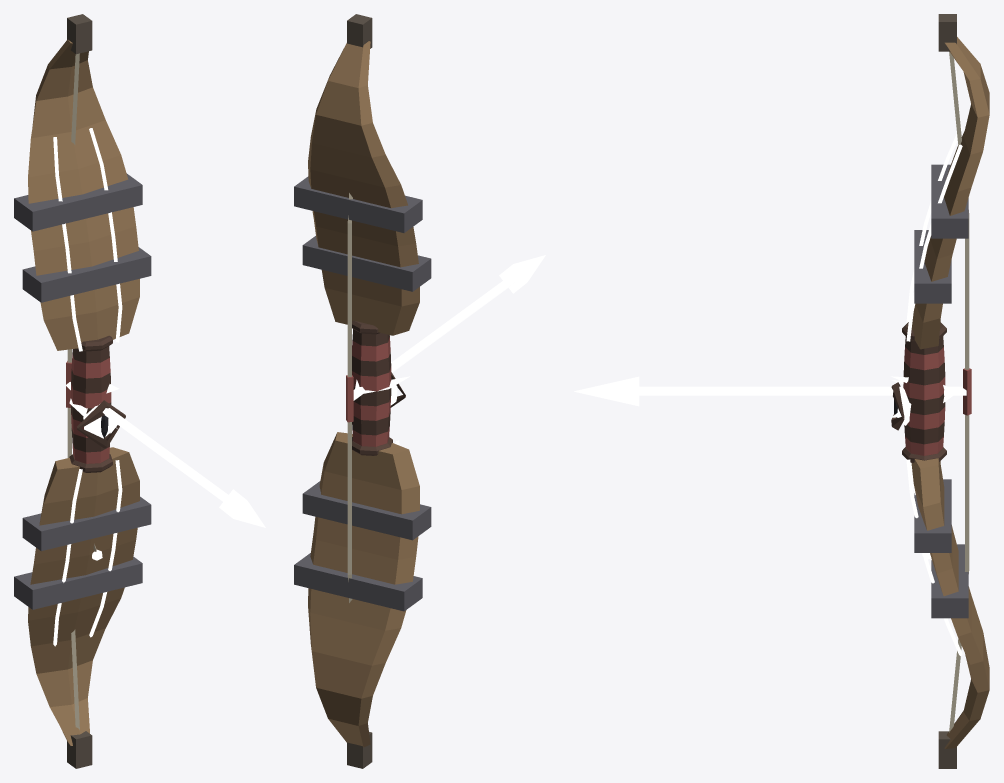
File: bow-covering.glb
3 renders of one model, left to right at view 1: azimuth 30°, elevation 25°; view 2: azimuth 150°, elevation 25°; view 3: azimuth 270°, elevation 25°, orthographic.
Visible parts, largest first — view 1: bow-covering, pulse_vein, pulse_arrow, string, blink_eye; view 2: bow-covering, pulse_arrow, string; view 3: bow-covering, pulse_arrow, string, pulse_vein.
Boxes of the visible parts, bbox=[...] form: bow-covering: bbox=[14, 14, 151, 768]; pulse_vein: bbox=[53, 128, 122, 646]; pulse_arrow: bbox=[66, 382, 265, 527]; string: bbox=[66, 53, 79, 729]; blink_eye: bbox=[77, 400, 125, 448]; bow-covering: bbox=[294, 14, 431, 768]; pulse_arrow: bbox=[353, 255, 545, 400]; string: bbox=[346, 193, 353, 602]; bow-covering: bbox=[902, 14, 989, 768]; pulse_arrow: bbox=[574, 376, 966, 417]; string: bbox=[949, 51, 971, 732]; pulse_vein: bbox=[906, 127, 962, 655].
Bounding box in the file's own units: 0.233 × 1.51 × 0.7584.
